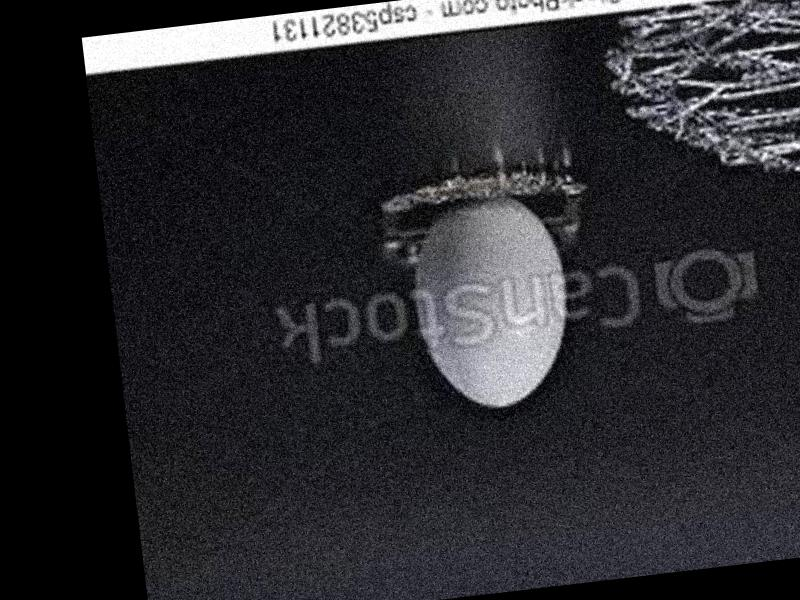Eggs: (404, 189, 579, 414)
